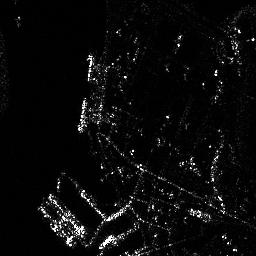ship: (77, 95, 91, 134), (86, 53, 96, 81)
